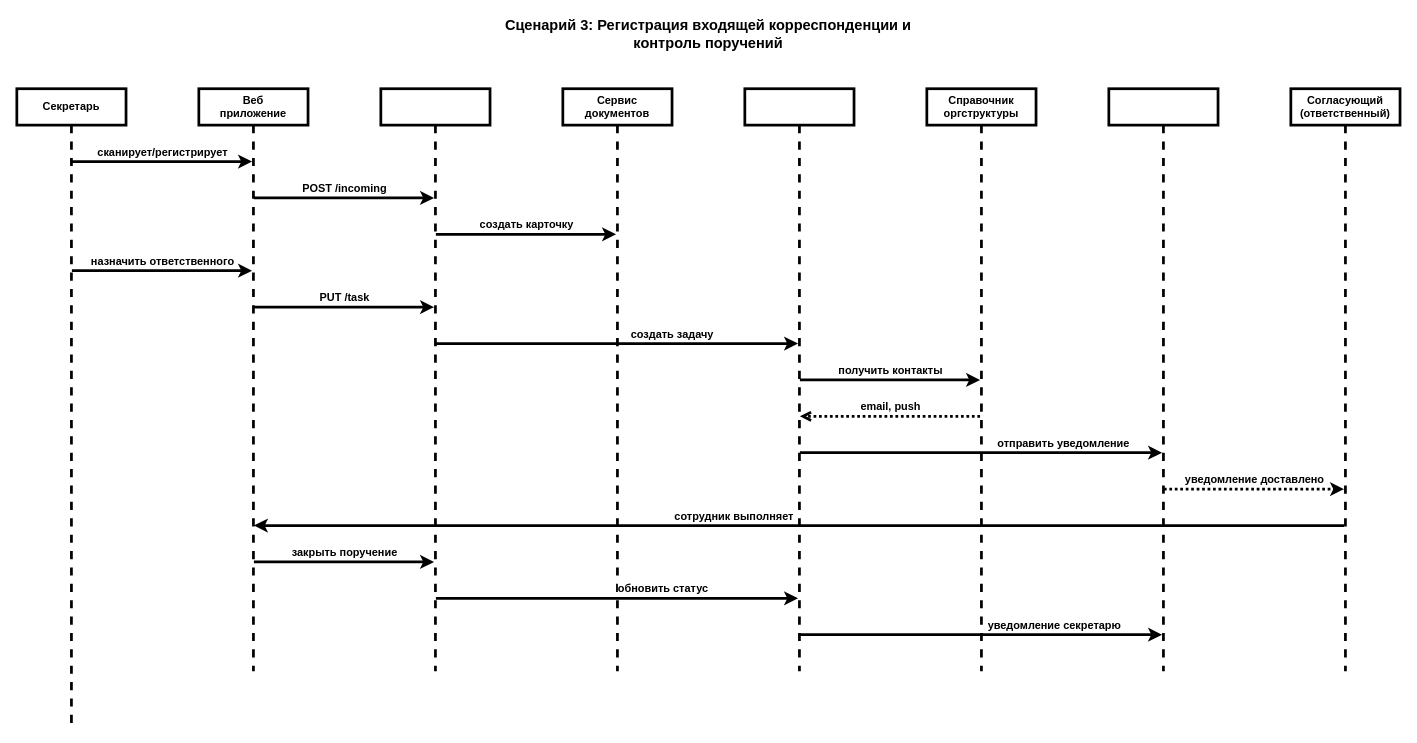
This 1417x743 diagram has some shape labels left out. Here are the shapes that lost their labels. From the top down, the box of each, then its label:
(379, 87, 491, 672): API Gateway
(743, 87, 855, 672): Сервис маршрутизации
(1107, 87, 1219, 672): Сервис уведомлений
